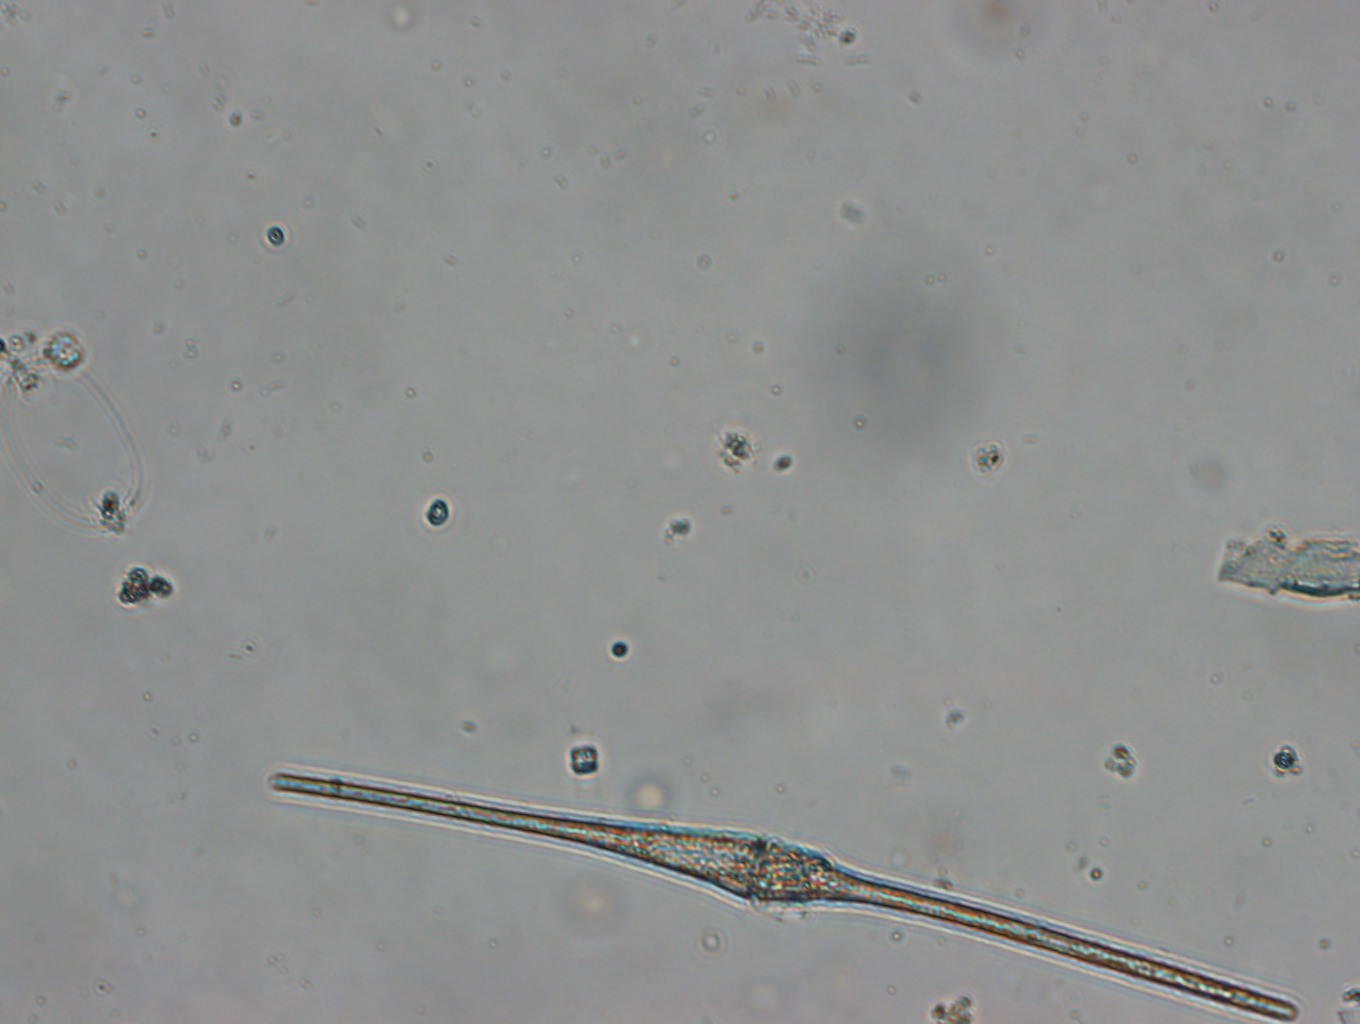ceratium fusus: (264, 768, 1301, 1024)
